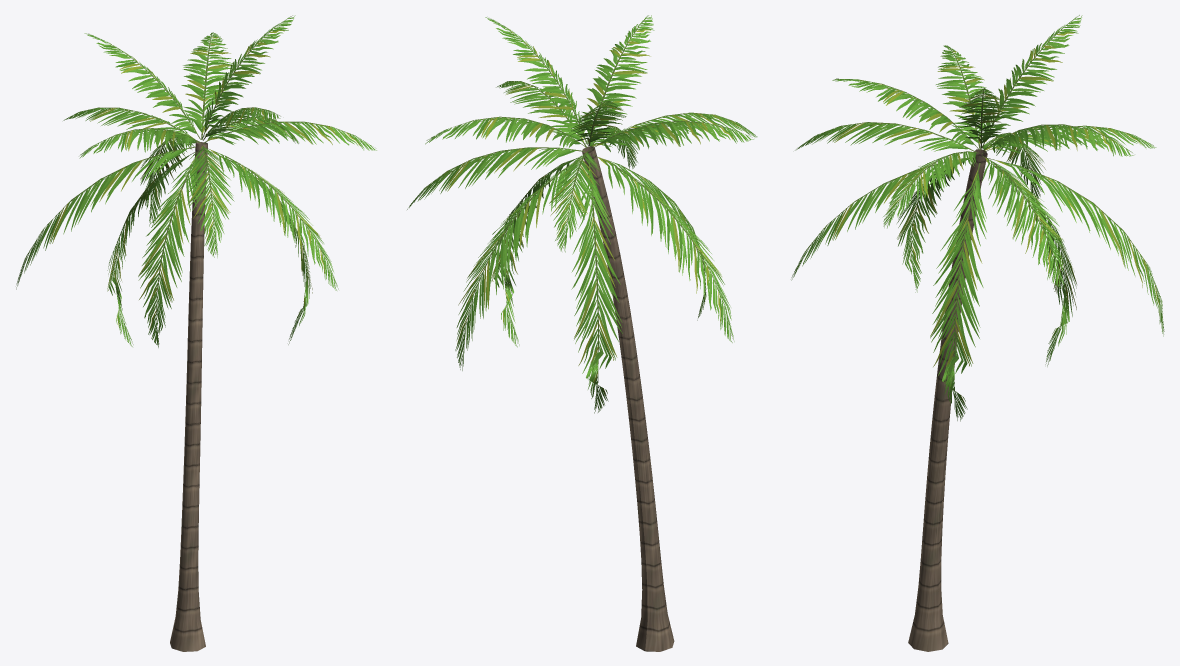
Rendered from palma_bl_b.glb.
3 renders of one model, left to right at view 1: azimuth 30°, elevation 25°; view 2: azimuth 150°, elevation 25°; view 3: azimuth 270°, elevation 25°, orthographic. The views are drawn at different scales.
Parts seen in each view (by area): view 1: palma_bl_b; view 2: palma_bl_b; view 3: palma_bl_b.
Boxes of the visible parts, box(x1,y1,x2,y2) form: palma_bl_b: box(16, 15, 376, 651); palma_bl_b: box(407, 15, 757, 651); palma_bl_b: box(791, 15, 1164, 651).
Bounding box in the file's own units: 5.39 × 10.01 × 5.47.
2 materials, 2 textured.
